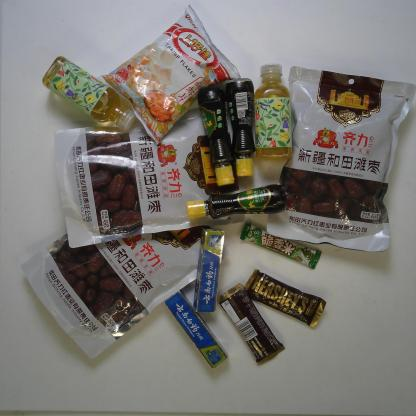Chocolate: (244, 266, 329, 332), (219, 283, 282, 367), (236, 221, 326, 270)
Dried Food: (23, 201, 210, 361), (268, 62, 412, 261), (48, 109, 230, 249)
Drink: (42, 50, 140, 141), (255, 61, 298, 167)
Personal Hygiene: (161, 288, 228, 372), (189, 225, 228, 311)
Puffed Food: (102, 3, 244, 144)
Seasoner: (194, 80, 238, 189), (183, 186, 294, 223), (224, 74, 262, 181)
